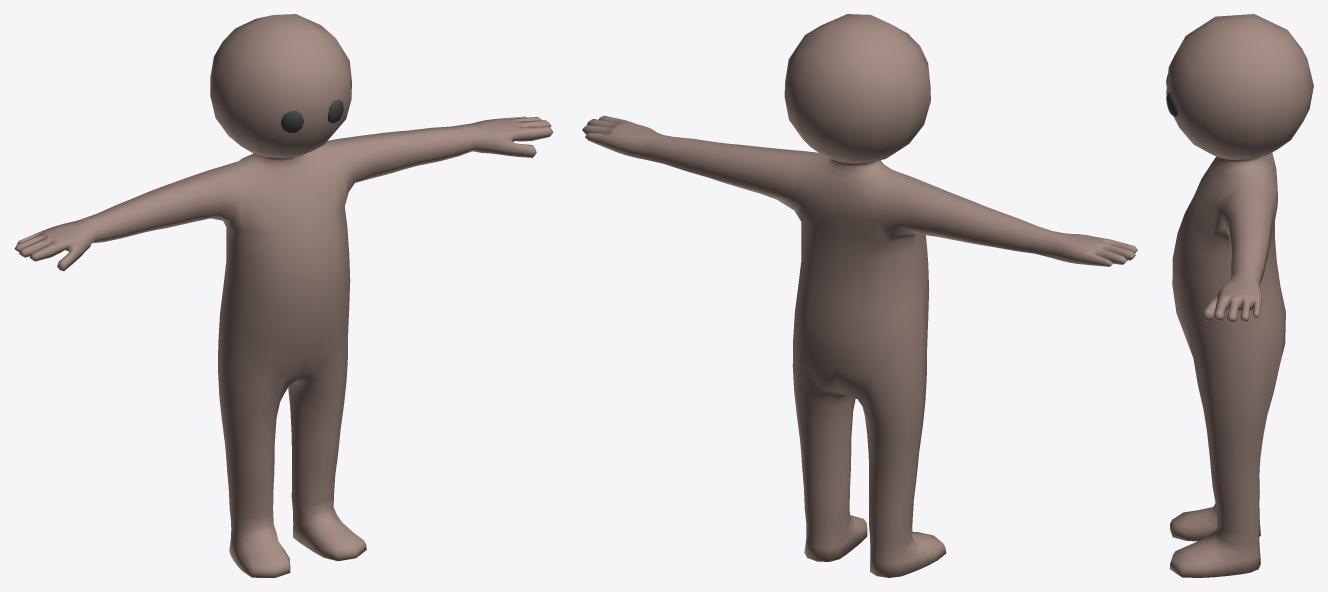
The model's file is Body_Brown_003.glb.
3 renders of one model, left to right at view 1: azimuth 30°, elevation 25°; view 2: azimuth 150°, elevation 25°; view 3: azimuth 270°, elevation 25°, orthographic. The views are drawn at different scales.
Parts seen in each view (by area): view 1: Body_Brown_003; view 2: Body_Brown_003; view 3: Body_Brown_003.
Boxes of the visible parts, x1,y1,x2,y2 form: Body_Brown_003: (14, 14, 553, 577); Body_Brown_003: (582, 14, 1137, 577); Body_Brown_003: (1166, 14, 1313, 577).
Size of the model in its own units: 1.82 by 1.71 by 0.4335.
Materials: 1 (1 with a texture image).
